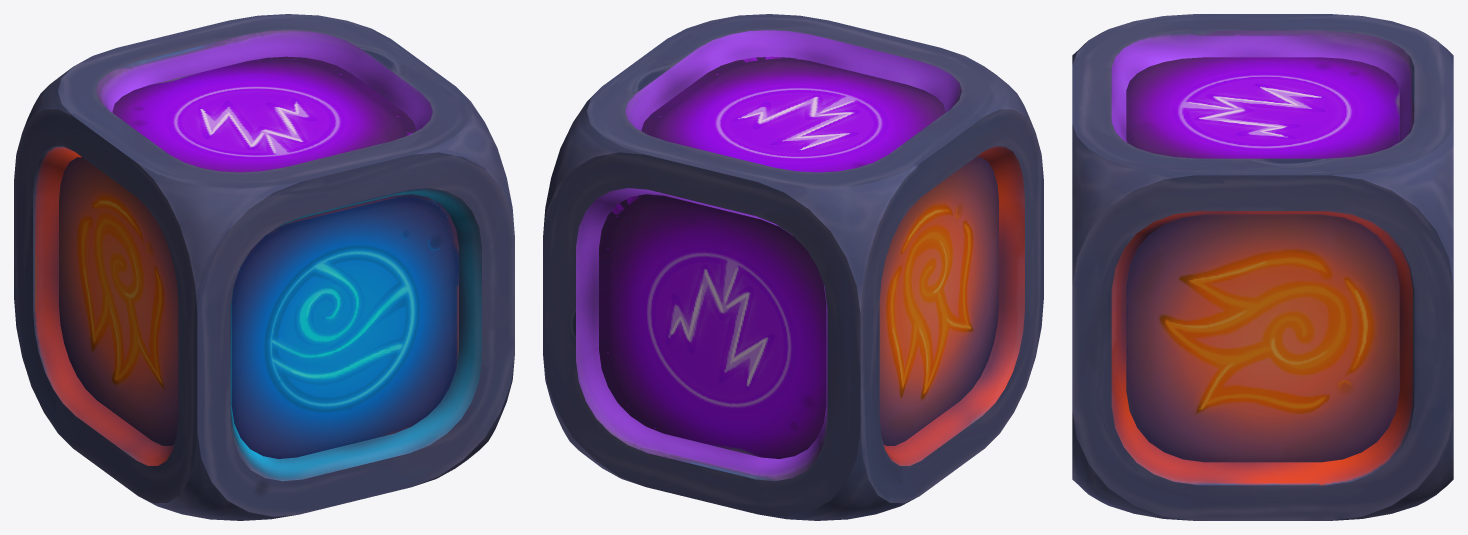
File: Dice_01.fbx
3 renders of one model, left to right at view 1: azimuth 30°, elevation 25°; view 2: azimuth 150°, elevation 25°; view 3: azimuth 270°, elevation 25°, orthographic. The views are drawn at different scales.
Visible parts, largest first — view 1: Dice_01.007; view 2: Dice_01.007; view 3: Dice_01.007.
Boxes of the visible parts, x1,y1,x2,y2 form: Dice_01.007: (14,14,514,520); Dice_01.007: (543,14,1043,520); Dice_01.007: (1072,14,1453,520).
Bounding box in the file's own units: 2.35 × 2.35 × 2.35.
Materials: 7 (7 with a texture image).
